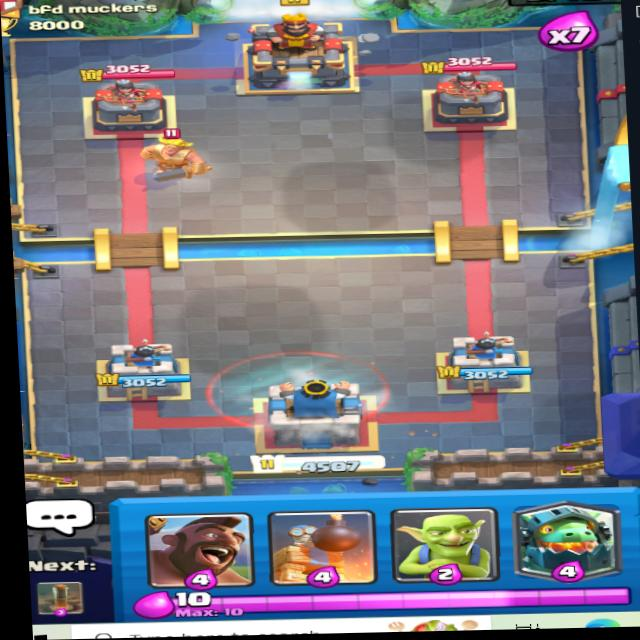clone: (201, 344, 396, 425)
golden-knight: (144, 127, 231, 182)
